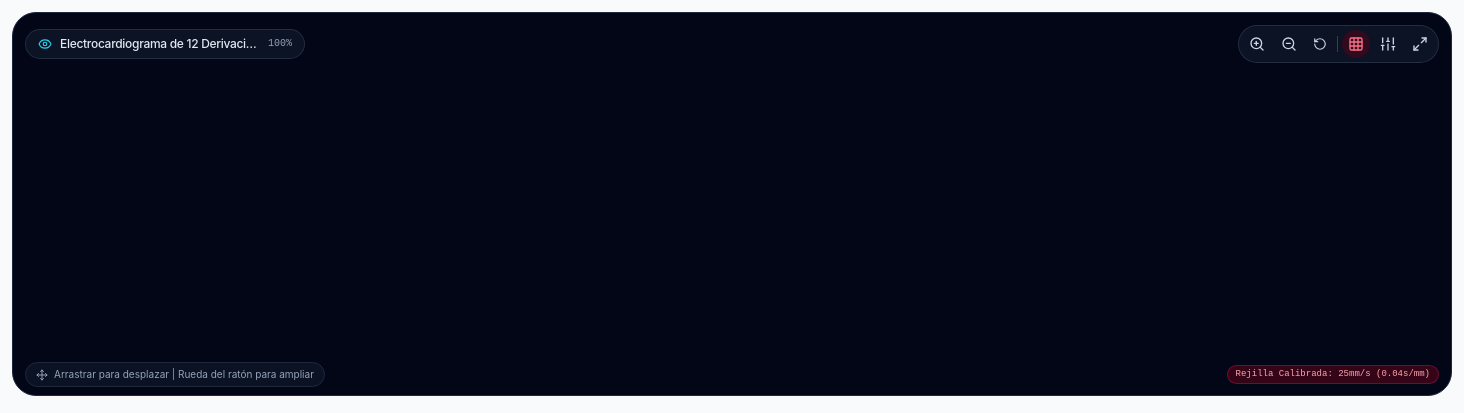
Test: Suite de Pruebas: Visor Diagnóstico de Paraclínicos (ClinicalStudyViewer - Ateneo+) › abre y cierra el panel de calibración de ventana radiológica
Expected: the text "Ventana Radiológica" is not shown
Click the button named "ajuste de filtros" at (1388, 44), box left=1374, top=30, right=1402, bottom=58
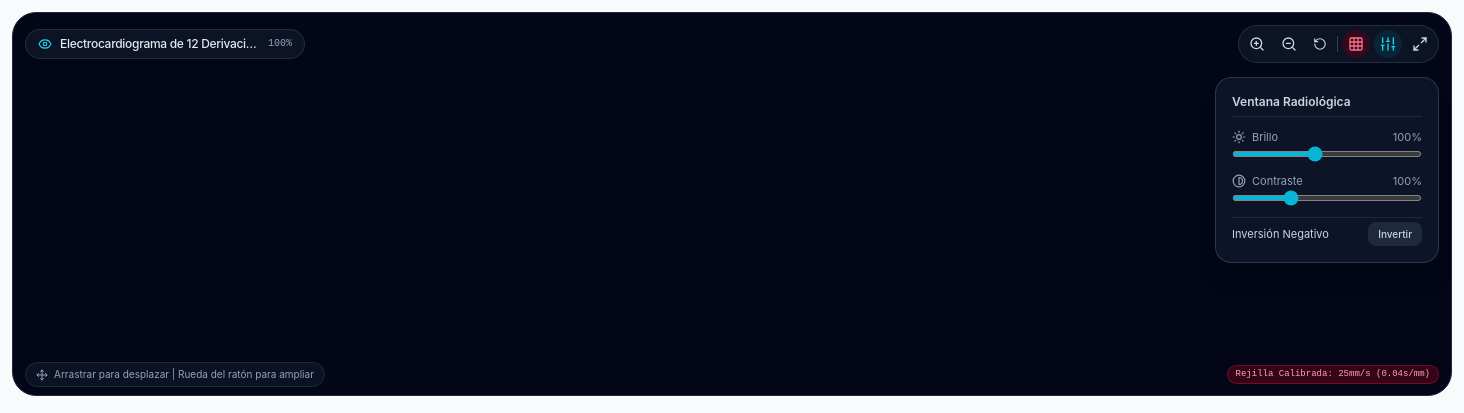
Expected: the text "Ventana Radiológica" is shown, left=1232, top=94, right=1422, bottom=117
Expected: the text "Brillo" is shown, left=1232, top=129, right=1278, bottom=145
Expected: the text "Contraste" is shown, left=1232, top=173, right=1303, bottom=189
Click the button named "ajuste de filtros" at (1388, 44), box left=1374, top=30, right=1402, bottom=58
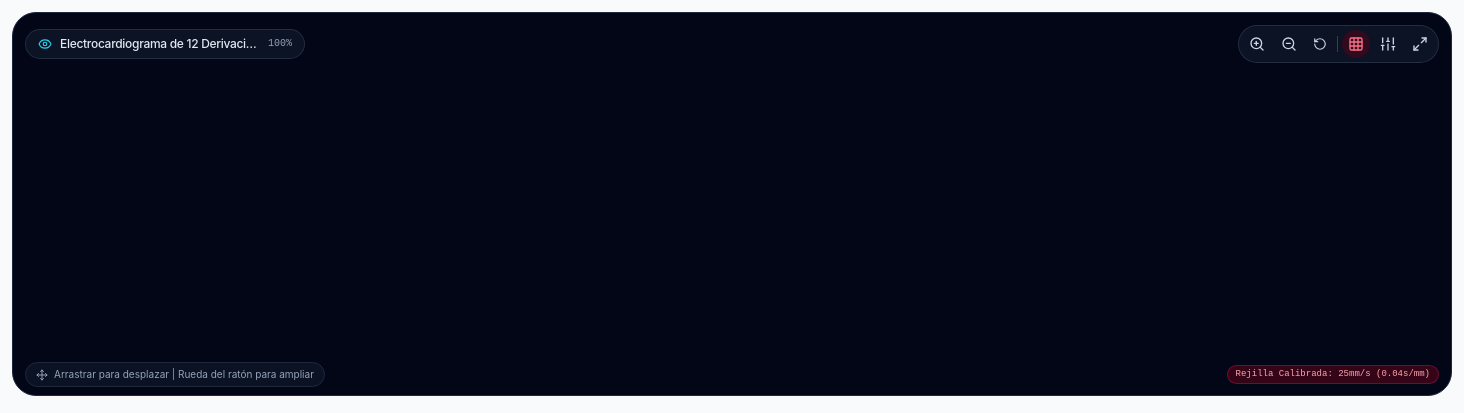
Expected: the text "Ventana Radiológica" is gone
